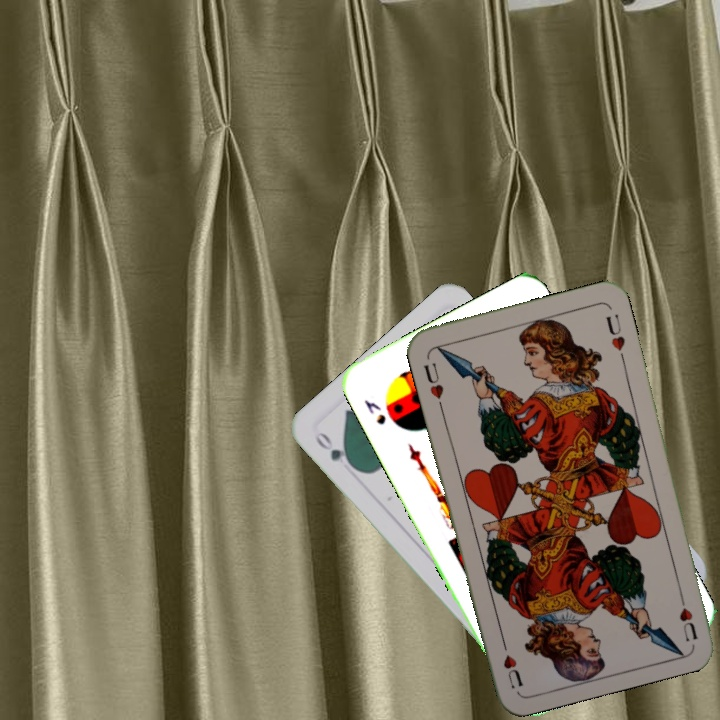GO: (310, 428, 359, 472)
HU: (675, 586, 700, 645), (419, 358, 446, 411)
SK: (359, 395, 389, 428)
